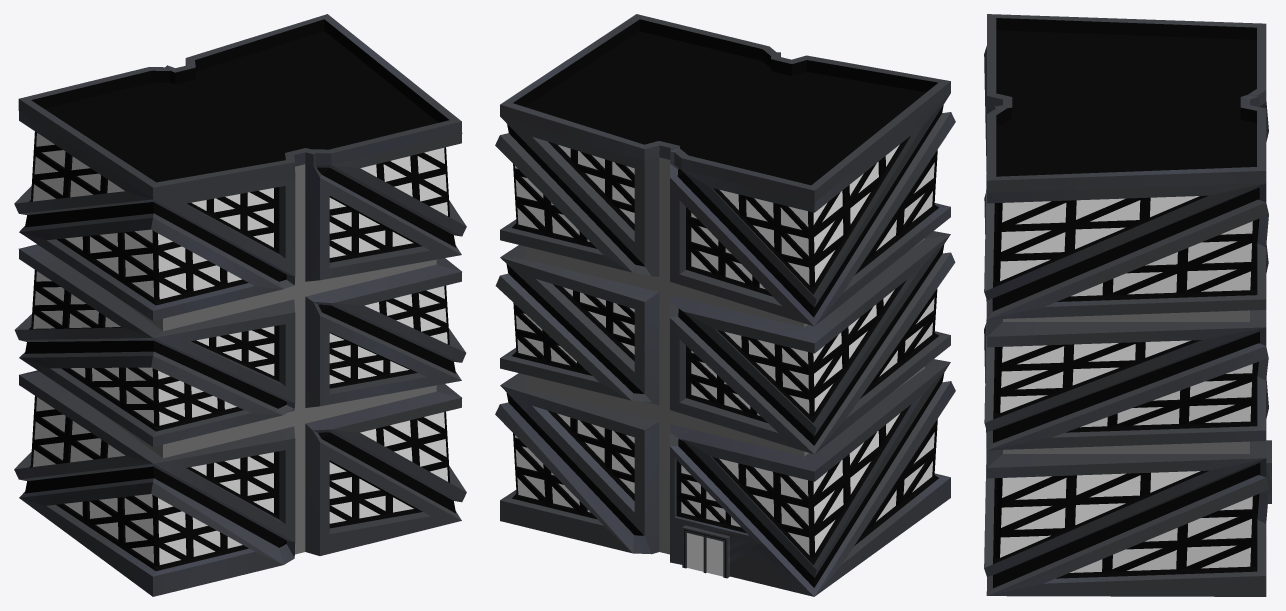
The model's file is BlockOfFlats8.fbx.
3 views of the same model, side by side, from view 1: azimuth 30°, elevation 25°; view 2: azimuth 150°, elevation 25°; view 3: azimuth 270°, elevation 25° (orthographic). The views are drawn at different scales.
Parts seen in each view (by area): view 1: Cube.003; view 2: Cube.003; view 3: Cube.003.
Part boxes in pixels (x1,y1,x2,y2): Cube.003: (14, 14, 466, 596); Cube.003: (495, 14, 955, 596); Cube.003: (984, 14, 1271, 596).
Size of the model in its own units: 10793 by 13361 by 8182.
